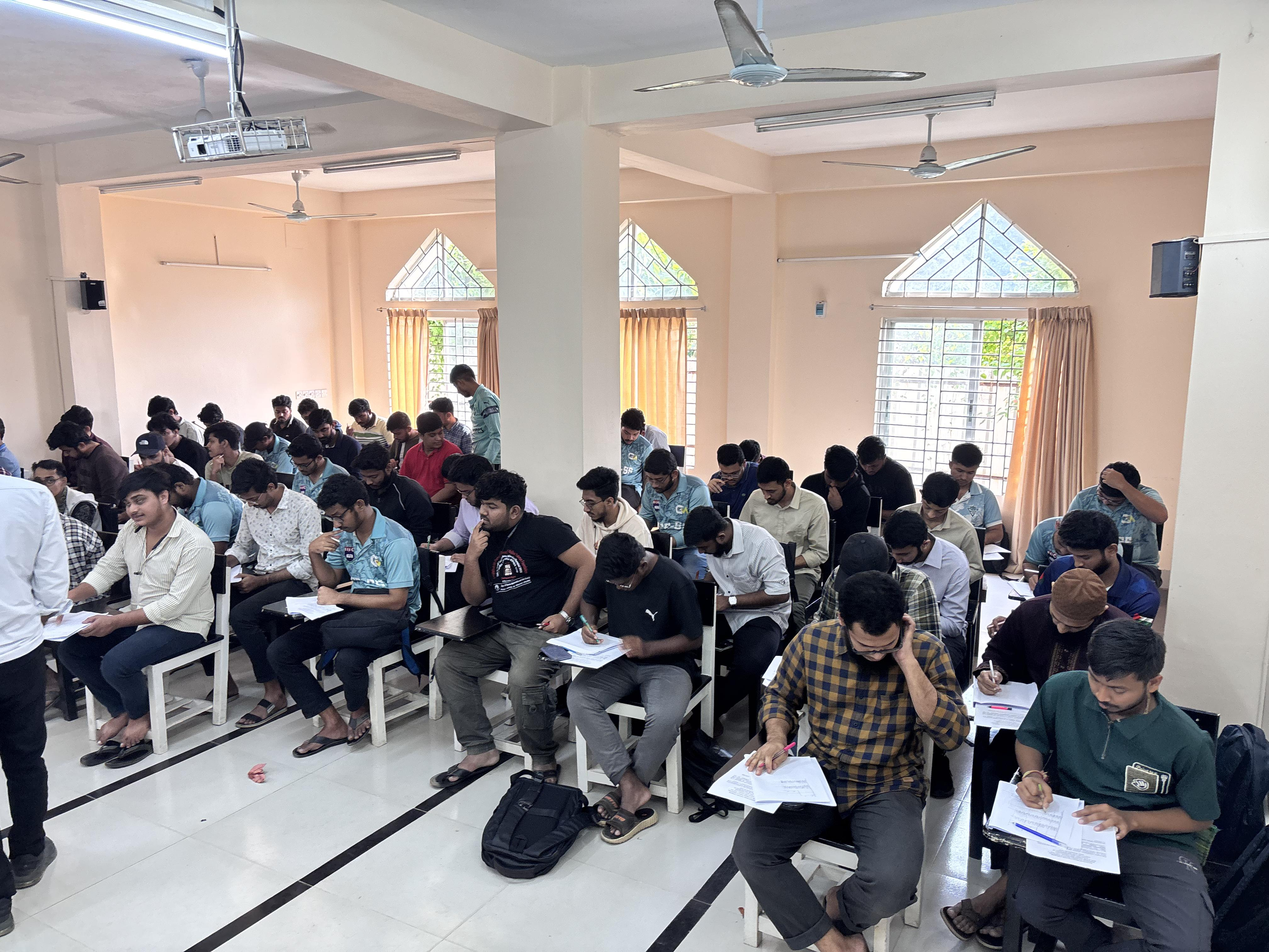copying: (738, 594, 945, 903), (404, 419, 472, 499), (197, 427, 254, 486)
no_cheating: (1012, 649, 1213, 937), (44, 475, 210, 754), (560, 548, 693, 776), (453, 488, 567, 737), (282, 495, 413, 696), (985, 594, 1124, 715), (219, 460, 318, 623), (697, 515, 788, 671), (738, 465, 815, 578), (1076, 444, 1168, 535), (886, 526, 968, 622), (576, 468, 647, 562), (1043, 512, 1136, 582), (947, 436, 1012, 530), (812, 444, 868, 544), (636, 446, 696, 535), (42, 426, 128, 483), (910, 474, 978, 544), (859, 428, 911, 513), (707, 446, 756, 514), (123, 434, 188, 480), (280, 440, 332, 488), (29, 452, 82, 499), (628, 397, 668, 456), (258, 392, 305, 437), (306, 415, 354, 457), (144, 414, 191, 456), (339, 396, 378, 443), (617, 408, 643, 468), (433, 393, 462, 430)
